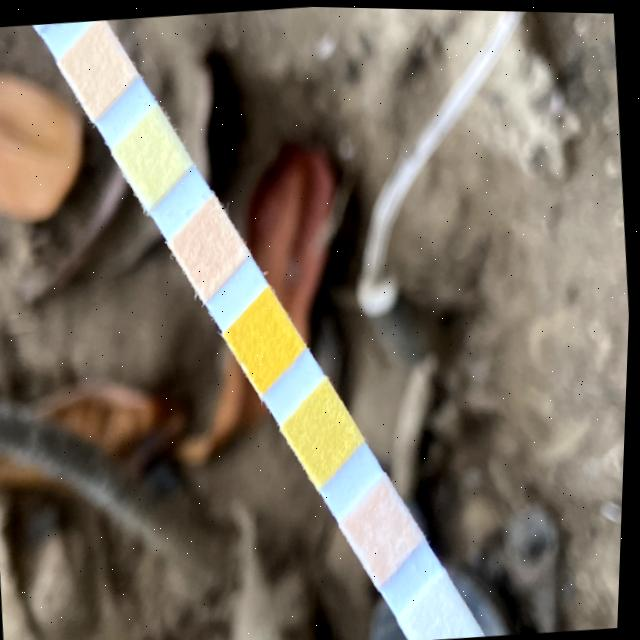Bilirubin: (421, 591, 466, 638)
Blood: (246, 306, 290, 370)
Ketone: (362, 498, 408, 564)
Protein: (128, 125, 178, 186)
SpGravity: (303, 399, 348, 466)
Urobilinogen: (76, 36, 120, 95)
pH: (189, 213, 233, 277)
